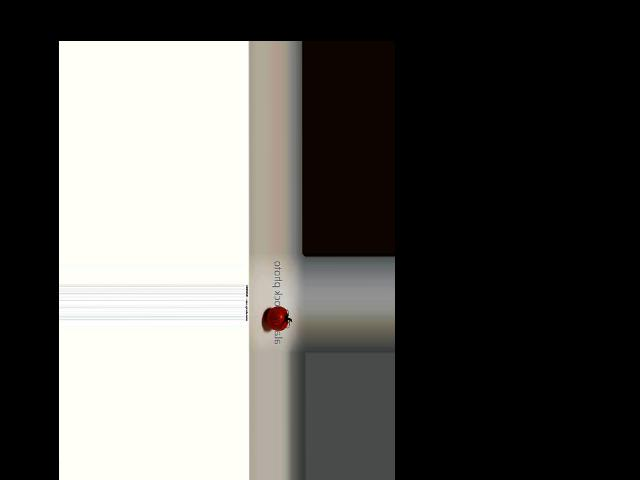tomato: (266, 305, 288, 330)
